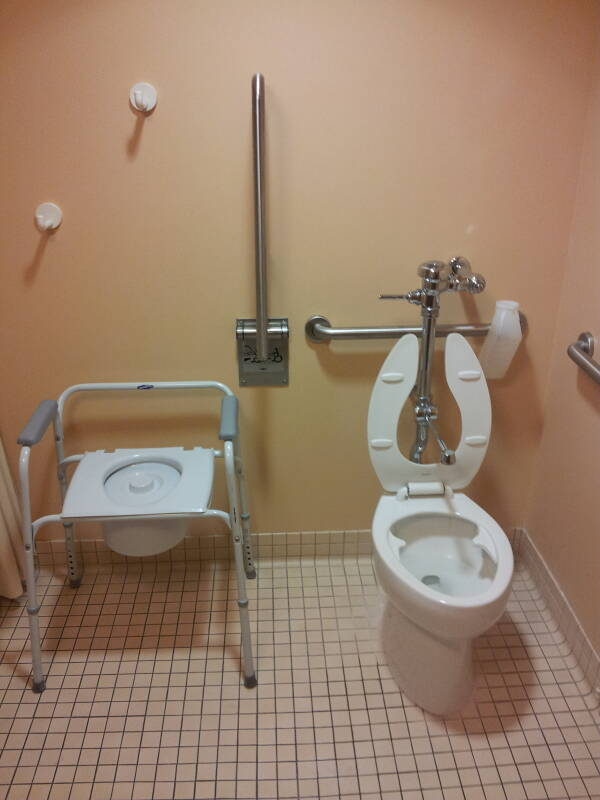restroom_assist_bar: (239, 72, 291, 389), (308, 312, 528, 344), (18, 395, 58, 529), (212, 395, 242, 516), (564, 329, 600, 394)
toilet: (355, 303, 516, 719), (63, 447, 212, 557)
toilet_handle: (379, 291, 414, 309)
